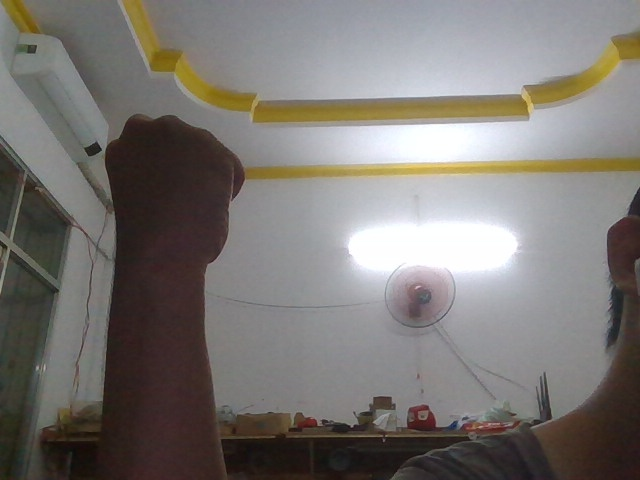fist: (90, 104, 253, 317)
